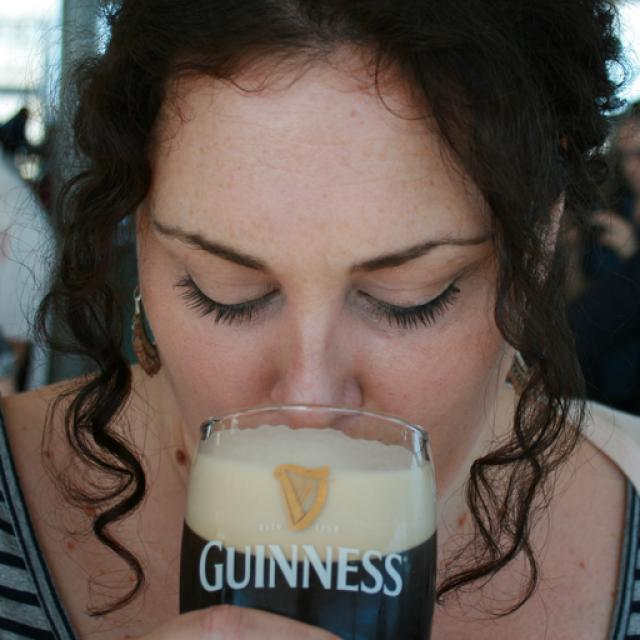sad: (134, 77, 505, 592)
